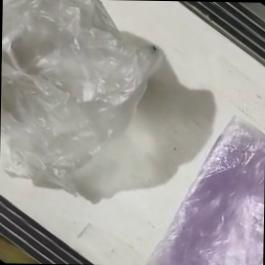Plastik: (0, 0, 164, 198), (143, 113, 265, 265)
